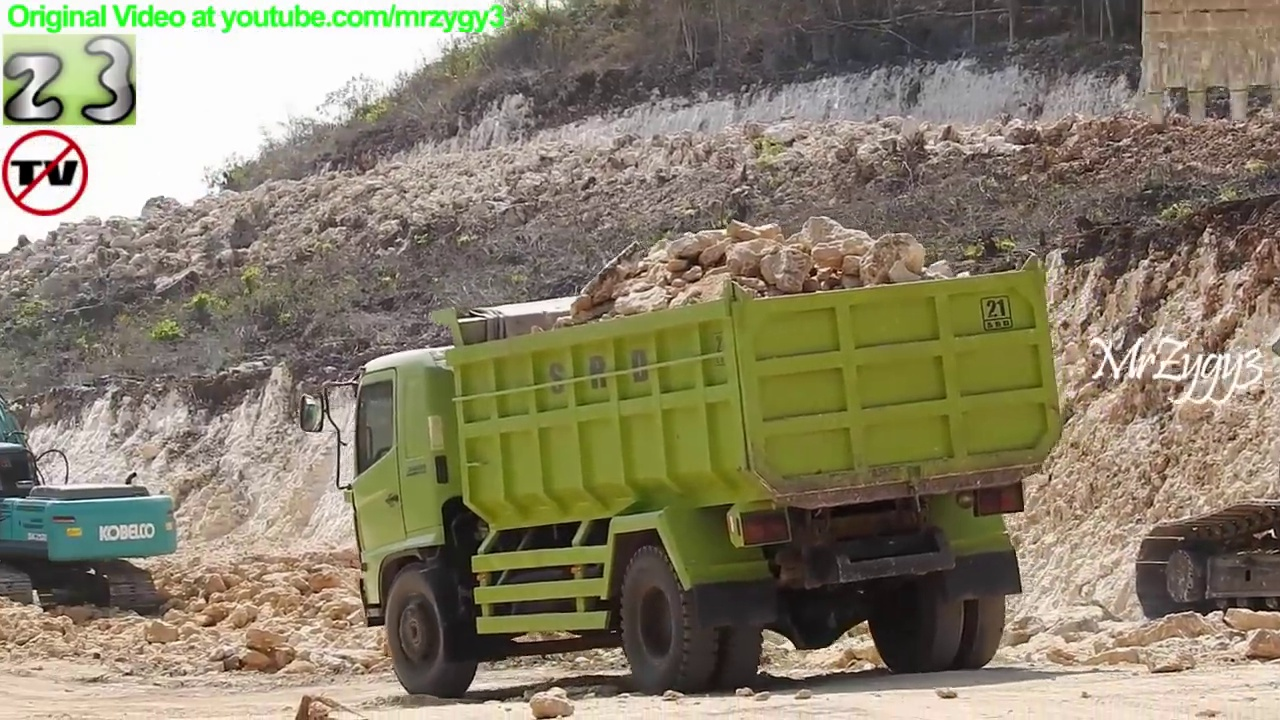excavator: (1126, 1, 1280, 640), (1, 390, 181, 627)
truck: (295, 245, 1071, 706)
